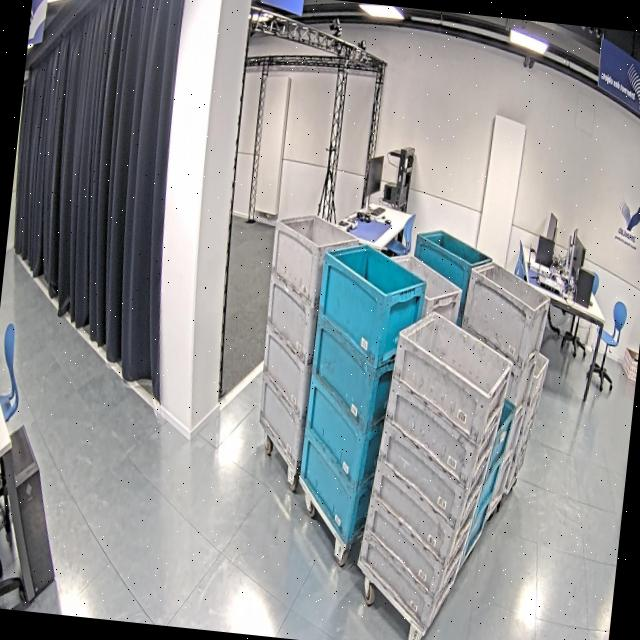Box3G: (348, 301, 518, 640), (331, 244, 467, 510)
Box4G: (432, 257, 554, 534), (250, 206, 362, 474)
Box8G: (463, 328, 552, 502)
BoxB4: (290, 233, 430, 554), (384, 225, 495, 453)
BoxB8: (382, 369, 518, 581)
